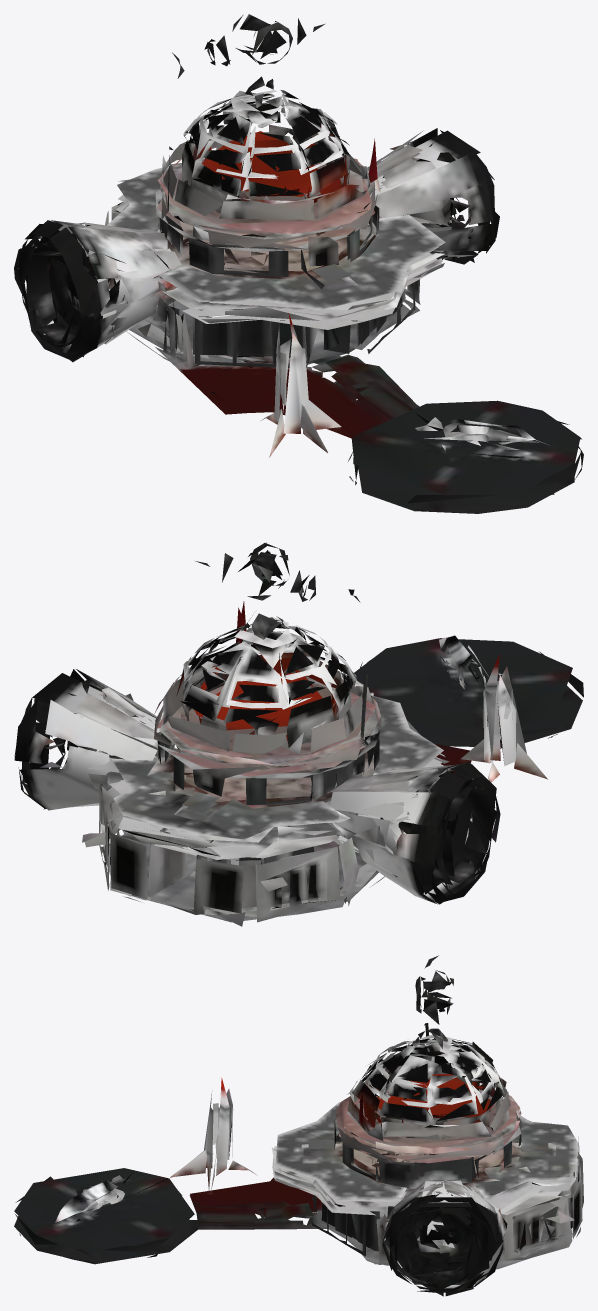
Rendered from martian-base.lo.glb.
3 views of the same model, one above another, from view 1: azimuth 30°, elevation 25°; view 2: azimuth 150°, elevation 25°; view 3: azimuth 270°, elevation 25° (orthographic). The views are drawn at different scales.
Parts seen in each view (by area): view 1: low; view 2: low; view 3: low.
Part boxes in pixels (<box>): low: <box>14,14,583,513</box>; low: <box>14,542,583,926</box>; low: <box>14,955,583,1296</box>.
Size of the model in its own units: 0.7091 by 0.4796 by 1.
1 material, 1 textured.
